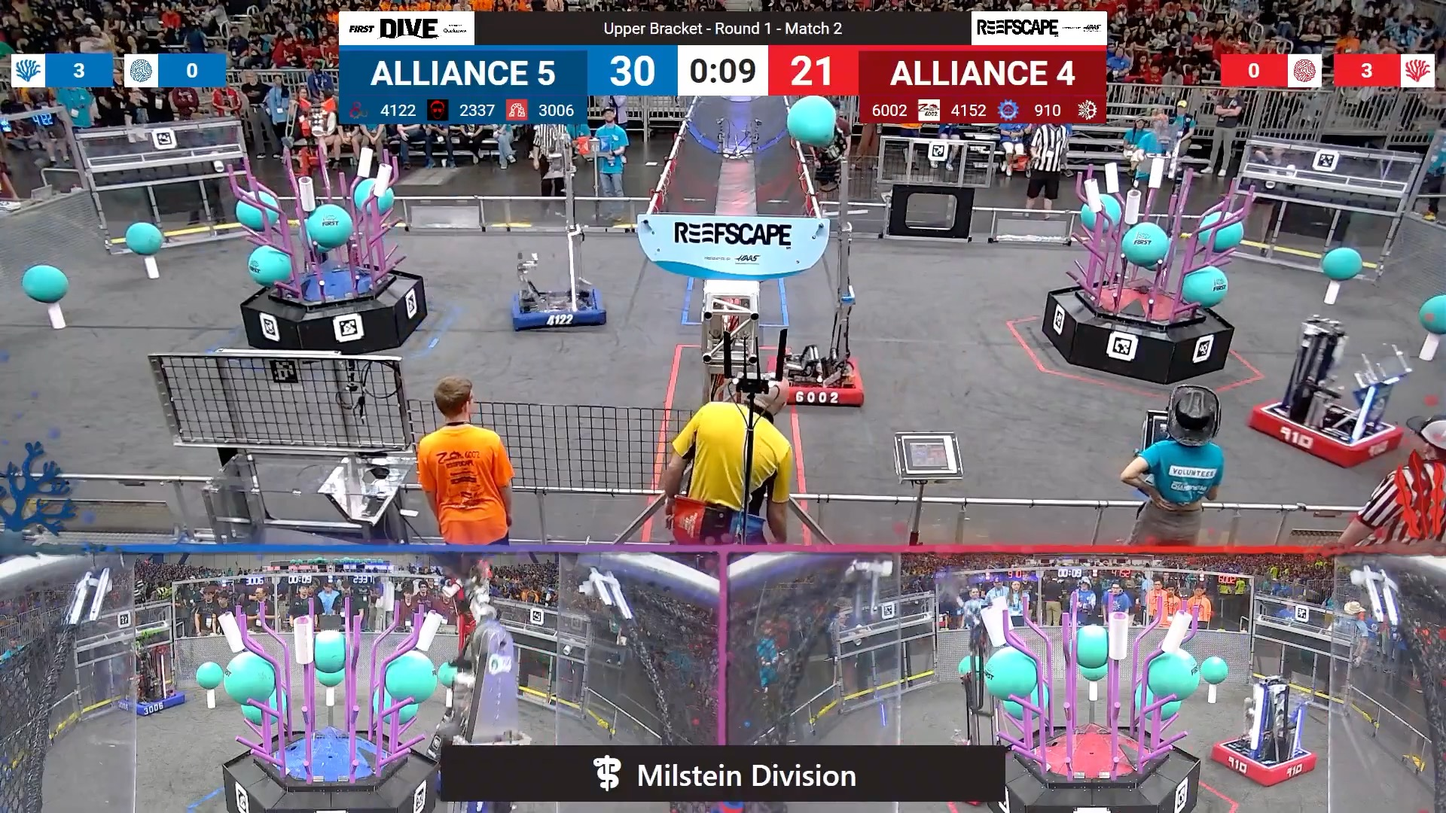bumpers: (1242, 394, 1411, 469), (764, 351, 869, 410), (1208, 736, 1323, 787), (507, 285, 607, 334), (113, 687, 191, 719)
